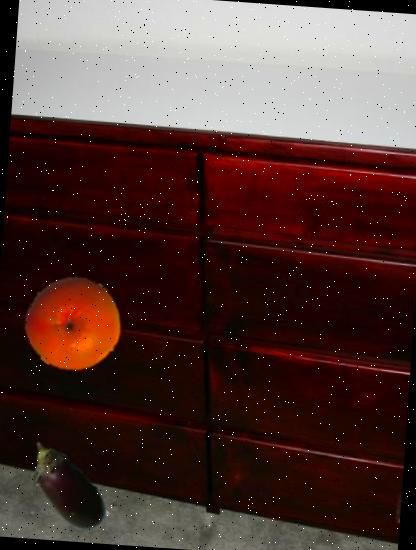Eggplant: (8, 430, 121, 543)
Grapefruit: (23, 272, 124, 374)
